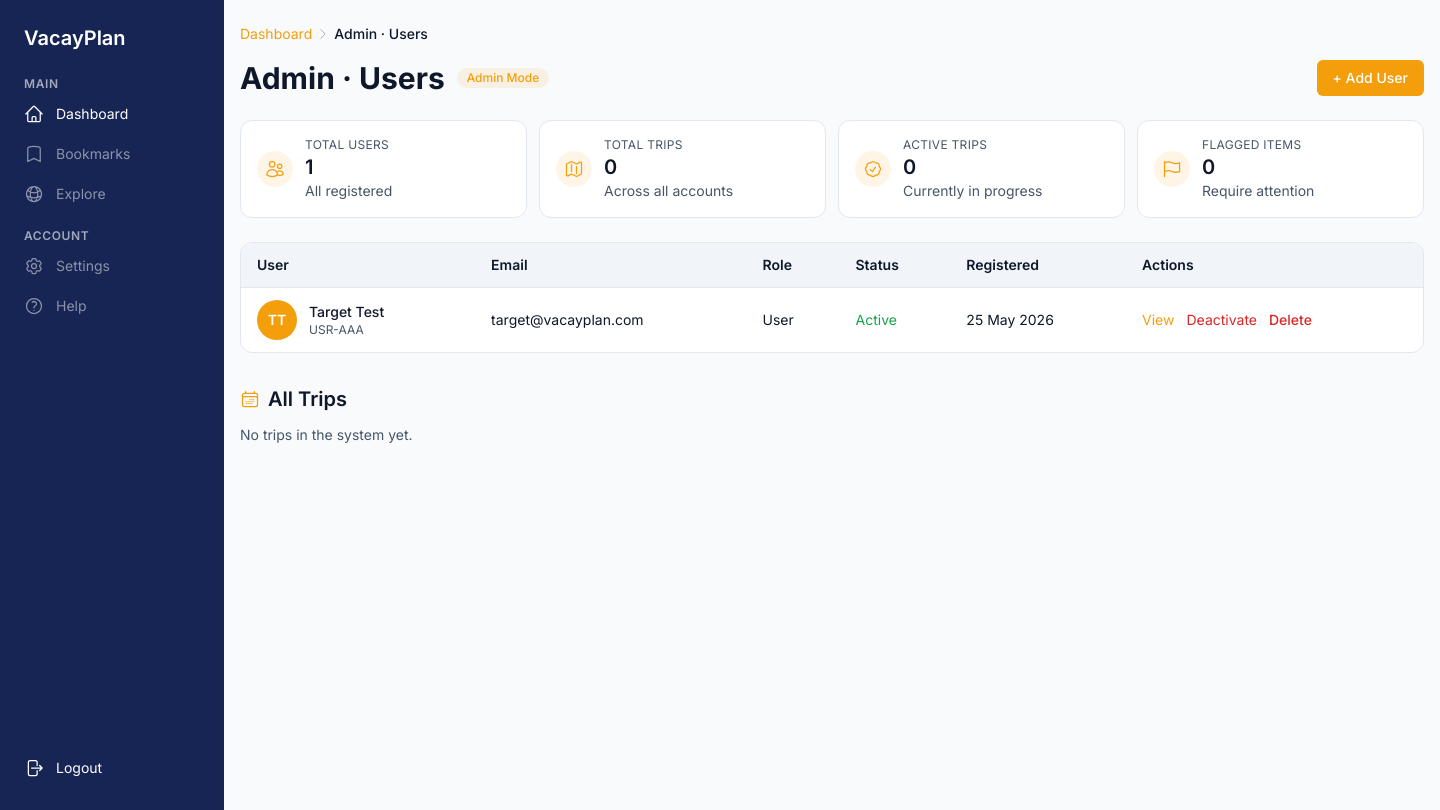
it: AdminUserList › delete user › Delete button in the dialog is disabled until the typed email matches exactly
Click the button "Delete": (1290, 320) [1269, 310, 1312, 330]
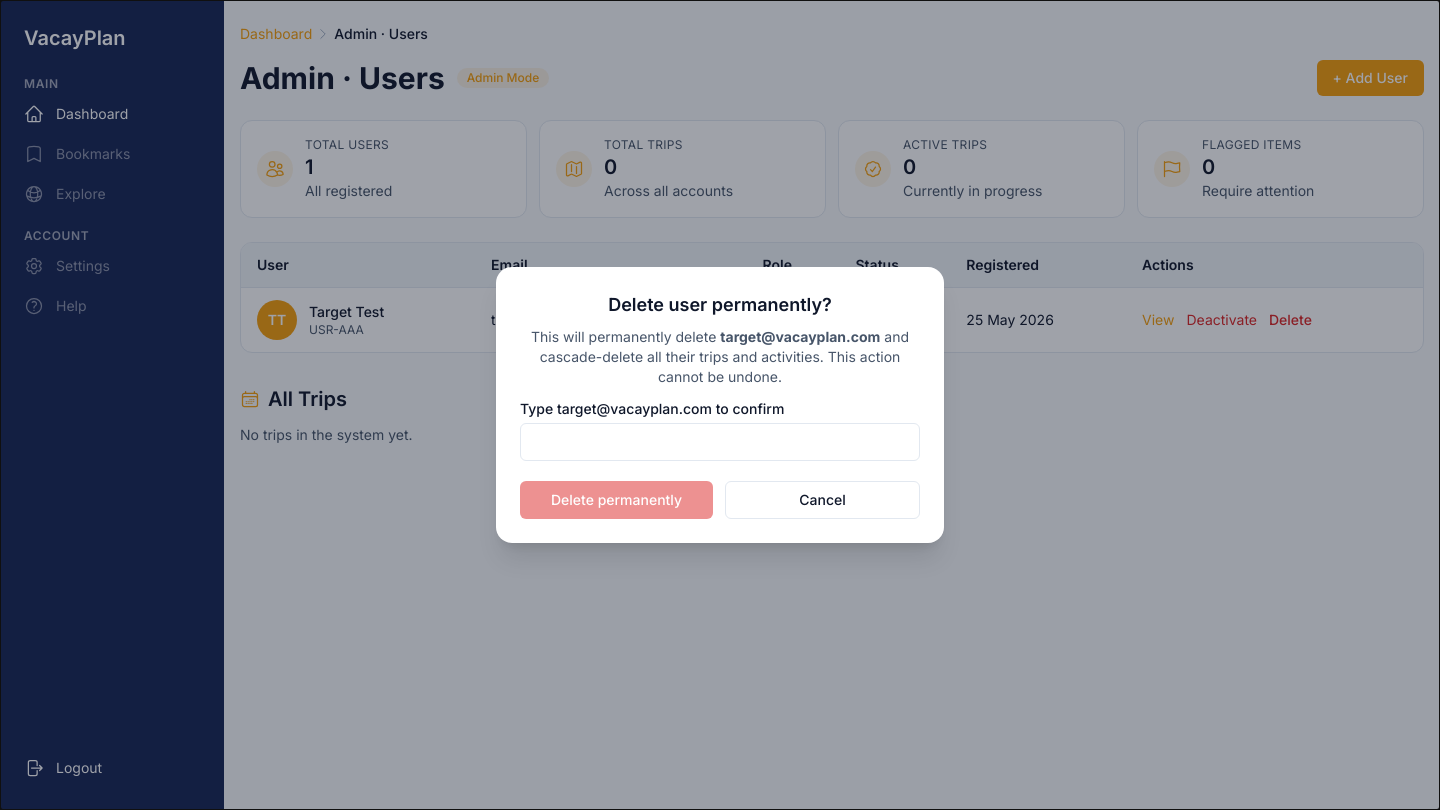
Result: the button "Delete permanently" is disabled at [520, 481, 713, 519]
In the field labelled "Type target@vacayplan.com to confirm": (720, 442) [520, 423, 920, 461], type "wrong@vacayplan.com"
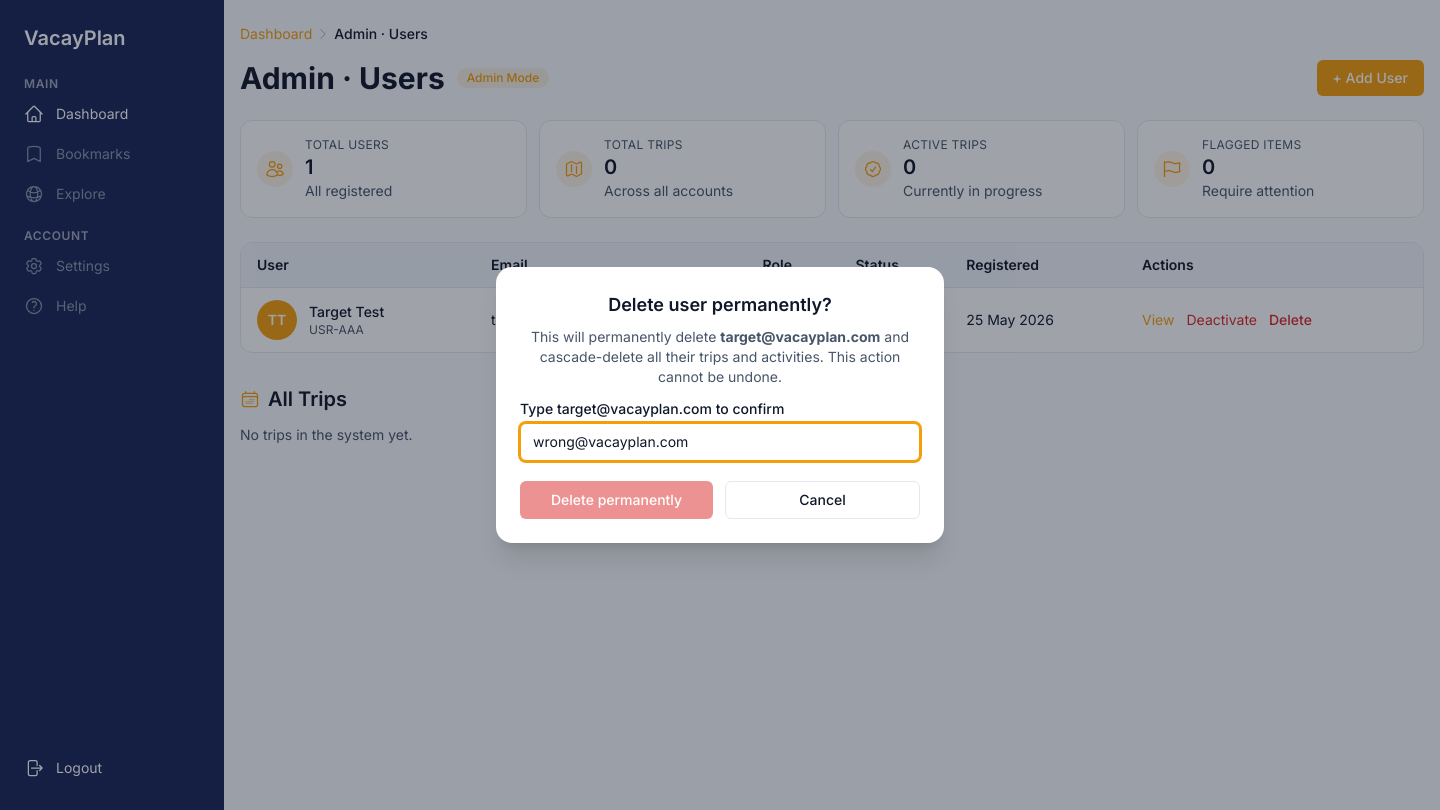
Result: the button "Delete permanently" is disabled at [520, 481, 713, 519]
Replace the text in the field labelled "Type target@vacayplan.com to confirm" with "target@vacayplan.com": (720, 442) [520, 423, 920, 461]
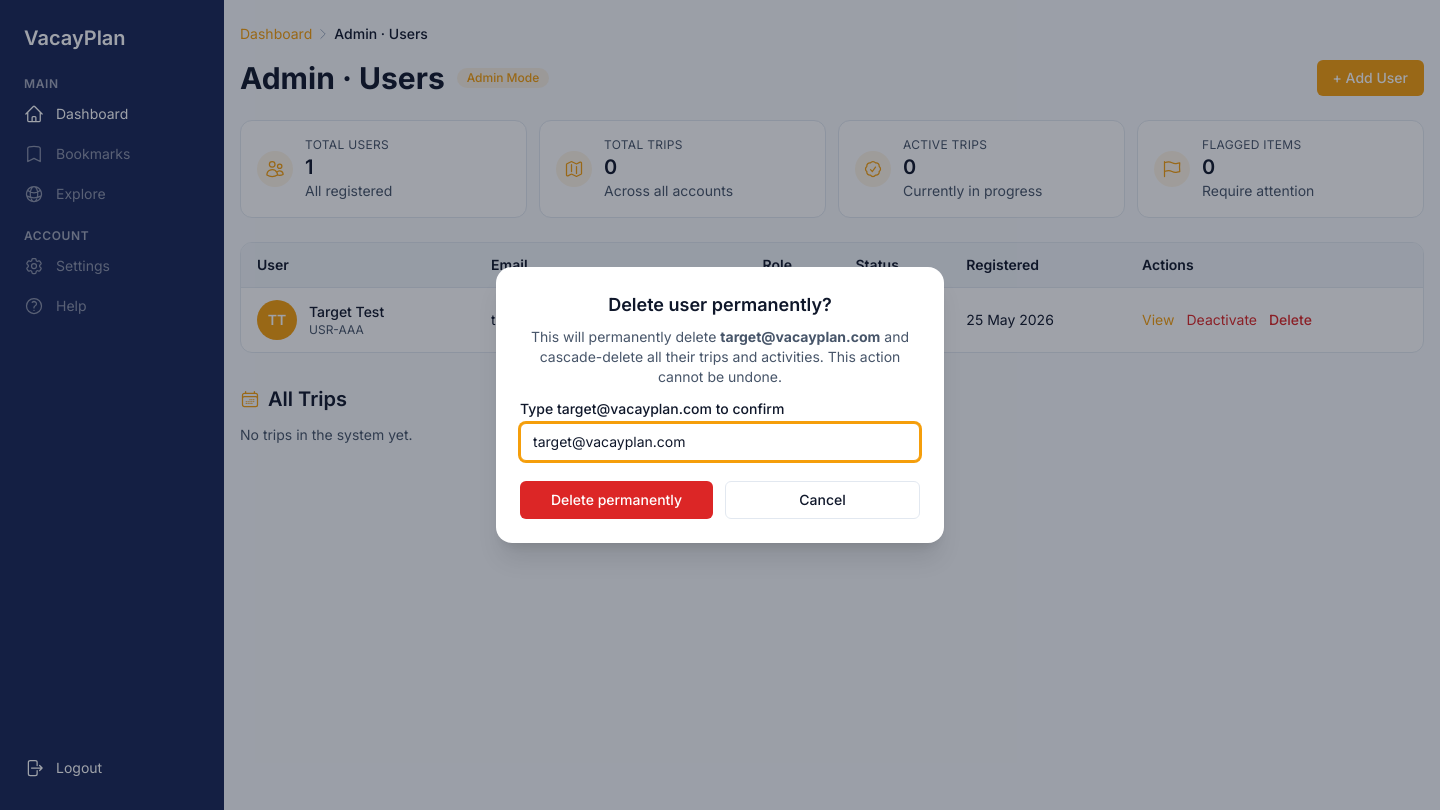
Result: the button "Delete permanently" is enabled at [520, 481, 713, 519]
